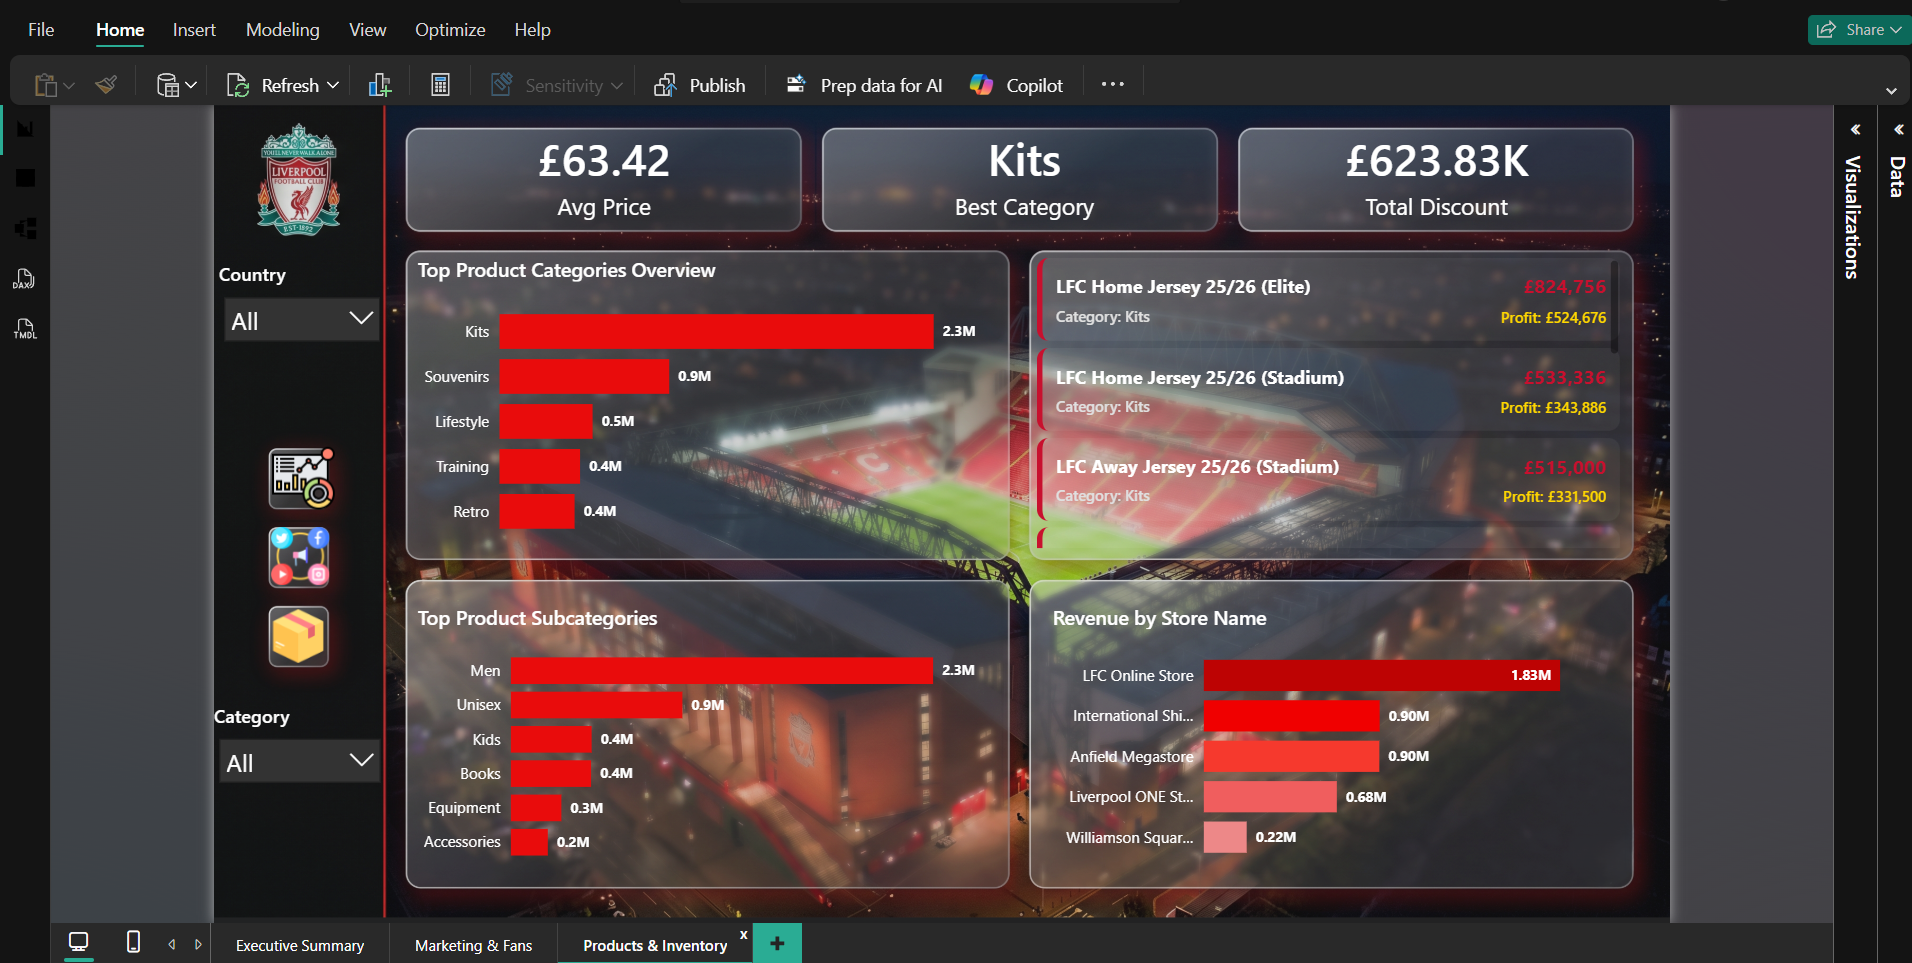

What the dashboard file says about the page in this screenshot:
{"tool":"powerbi","page":{"name":"Products & Inventory","canvas":[1280,720],"ordinal":2},"visuals":[{"type":"slicer","title":"Country","fields":{"Values":["Dim_Customers_v2.Country"]},"box":[4.8,137.3,146.8,87.8],"z":0},{"type":"slicer","title":"Category","fields":{"Values":["Dim_Products_v2.Category"]},"box":[0,525.1,151.6,83],"z":1000},{"type":"card","fields":{"Values":["_Measures.Avg Price"]},"box":[233,0,220.2,121.3],"z":2000},{"type":"card","fields":{"Values":["_Measures.Total Discount"]},"box":[965.6,0,220.2,121.3],"z":3000},{"type":"card","fields":{"Values":["_Measures.Best Category"]},"box":[592.1,0,242.6,121.3],"z":4000},{"type":"barChart","fields":{"Category":["Dim_Products_v2.Category"],"Y":["Sum(Fact_Sales_v2.TotalAmount)"]},"box":[167.6,121.3,520.3,280.9],"z":5000},{"type":"barChart","title":"Top Product Subcategories ","fields":{"Y":["Sum(Fact_Sales_v2.TotalAmount)"],"Category":["Dim_Products_v2.SubCategory"]},"box":[167.6,426.1,520.3,258.6],"z":6000},{"type":"barChart","title":"Revenue by Store Name","fields":{"Category":["Dim_Stores_v2.StoreName"],"Y":["Sum(Fact_Sales_v2.TotalAmount)"]},"box":[726.2,426.1,512.3,258.6],"z":7000},{"type":"actionButton","box":[51,441.8,47,50],"z":8000},{"type":"actionButton","box":[46,296,65,65.4],"z":9000},{"type":"actionButton","box":[46,366.8,59.3,59.3],"z":10000},{"type":"htmlContent443BE3AD55E043BF878BED274D3A6855","fields":{"content":["_Measures.Product_HTML_Sorted"]},"box":[719,130,522.9,265],"z":11000}]}

Visuals, with their boxes on the page's 1280x720 design canvas (x1, y1, x2, y2). These are canvas units, not pixel positions in the 1912x963 screenshot, which may show the page scaled, cropped or inside an application window:
"Country" slicer: 5, 137, 152, 225
"Category" slicer: 0, 525, 152, 608
card - _Measures.Avg Price: 233, 0, 453, 121
card - _Measures.Total Discount: 966, 0, 1186, 121
card - _Measures.Best Category: 592, 0, 835, 121
barChart - Dim_Products_v2.Category x Sum(Fact_Sales_v2.TotalAmount): 168, 121, 688, 402
"Top Product Subcategories " barChart: 168, 426, 688, 685
"Revenue by Store Name" barChart: 726, 426, 1238, 685
actionButton: 51, 442, 98, 492
actionButton: 46, 296, 111, 361
actionButton: 46, 367, 105, 426
htmlContent443BE3AD55E043BF878BED274D3A6855 - _Measures.Product_HTML_Sorted: 719, 130, 1242, 395
